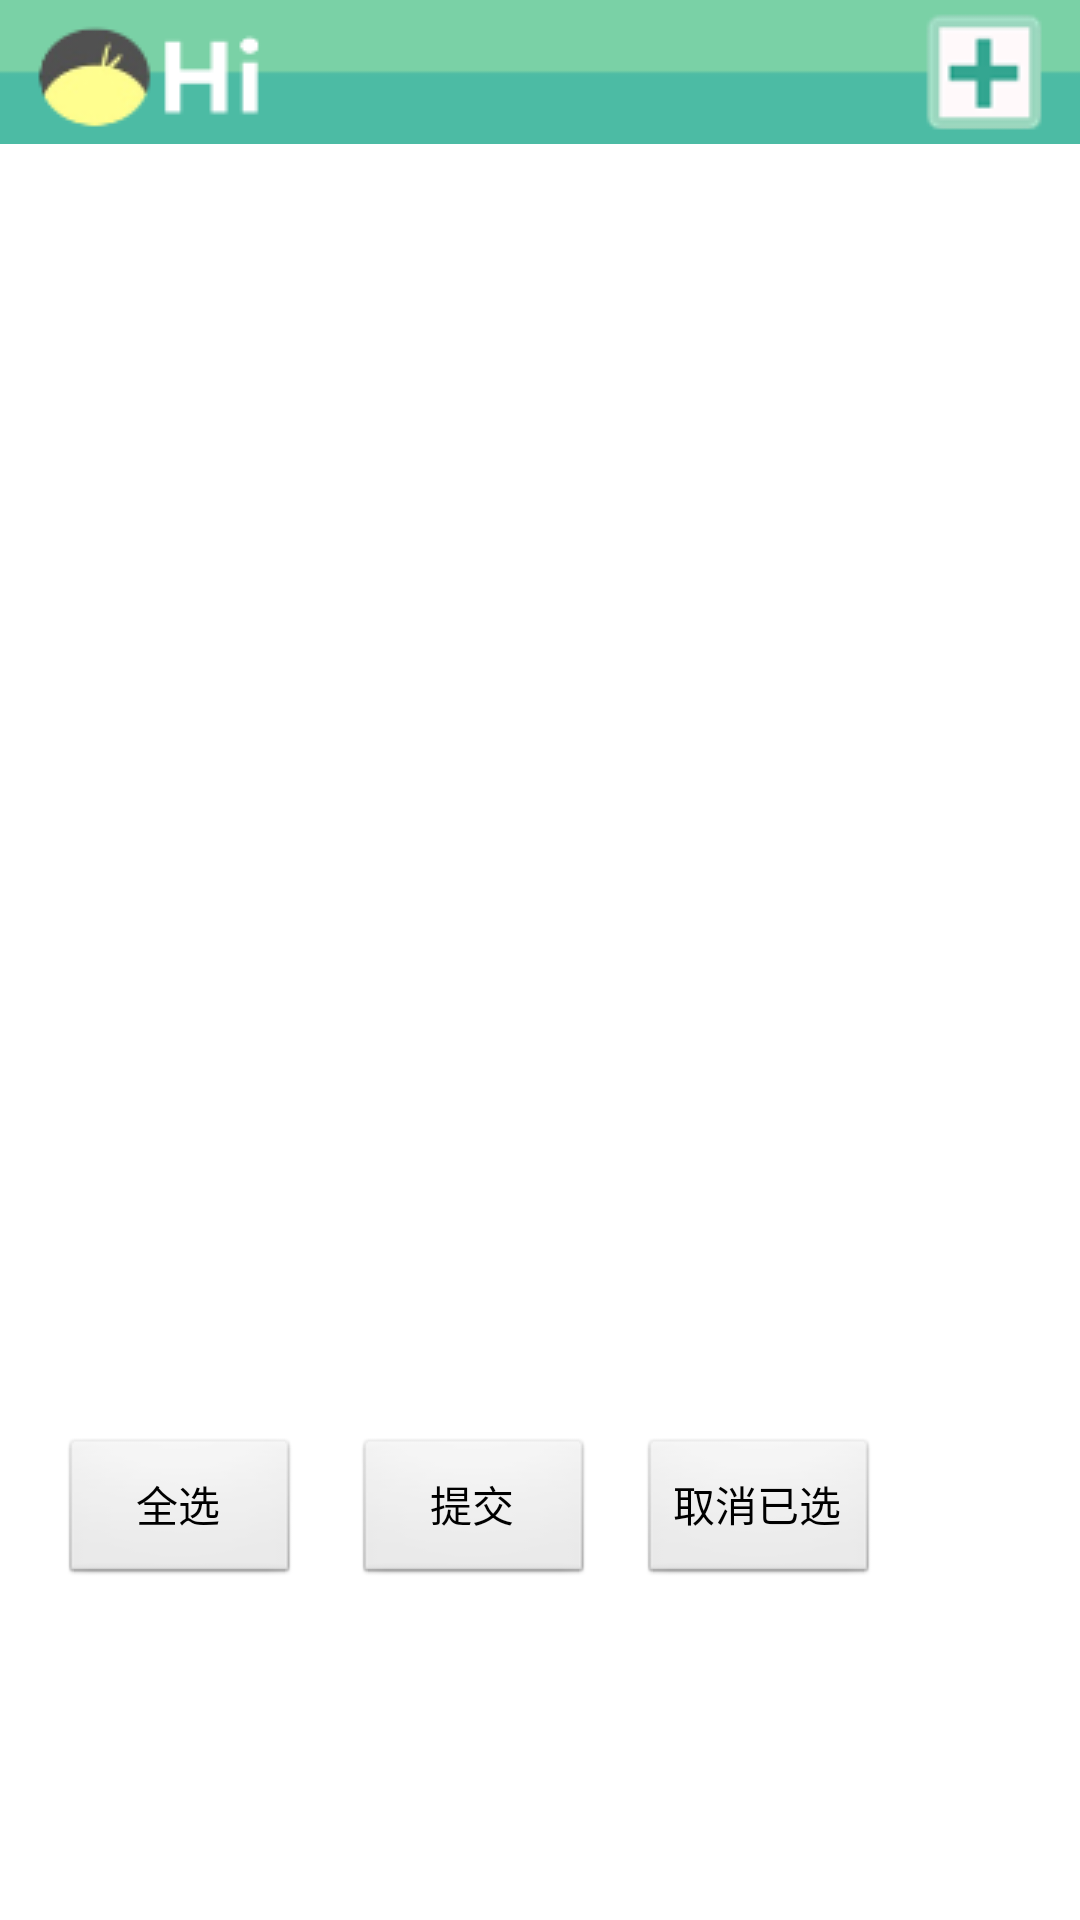

Icon click points for this 1080*1920 phone screenshot, format (x=x, y=y):
add: (x=984, y=72)
